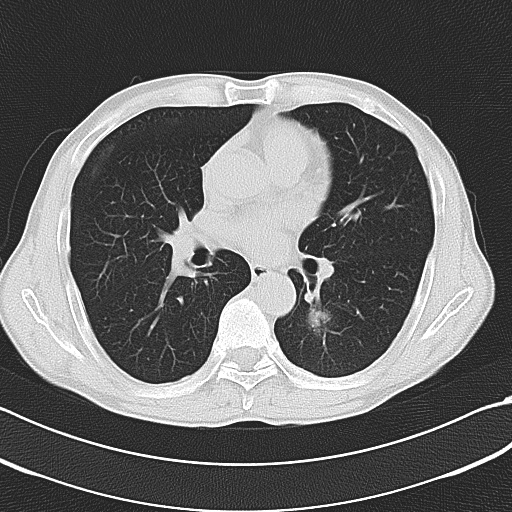Copy of cancer: (315, 291, 352, 325)
cancer: (301, 308, 338, 342)
non-cancer: (146, 212, 212, 286)
